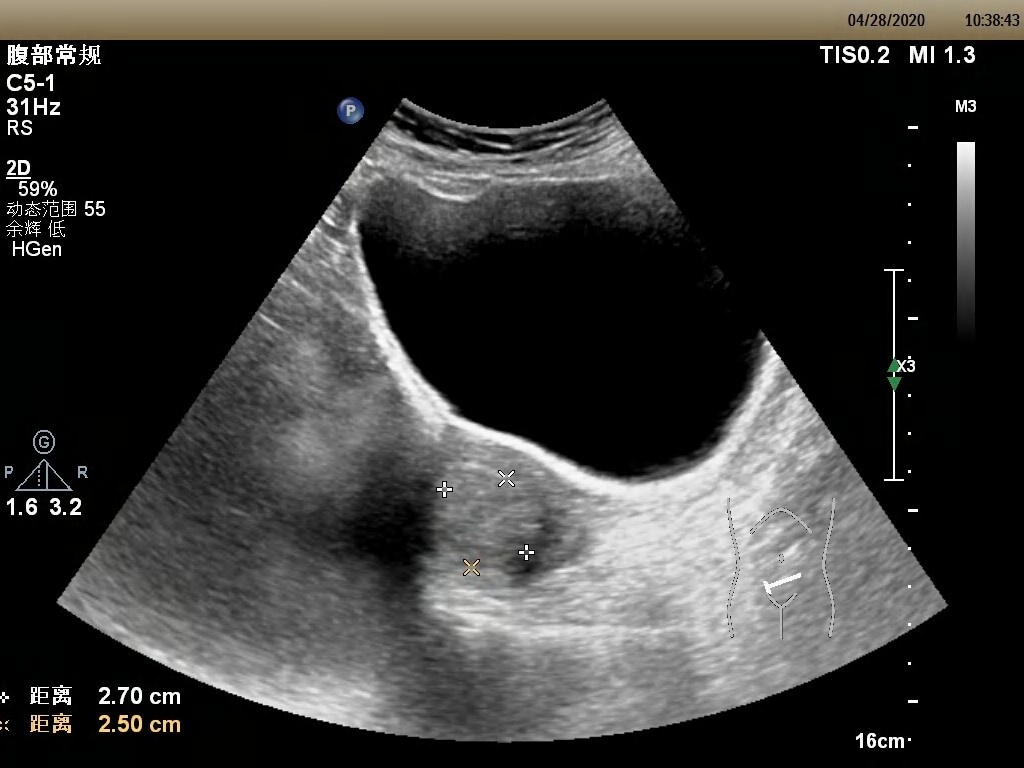肌瘤: (440, 471, 533, 566)
